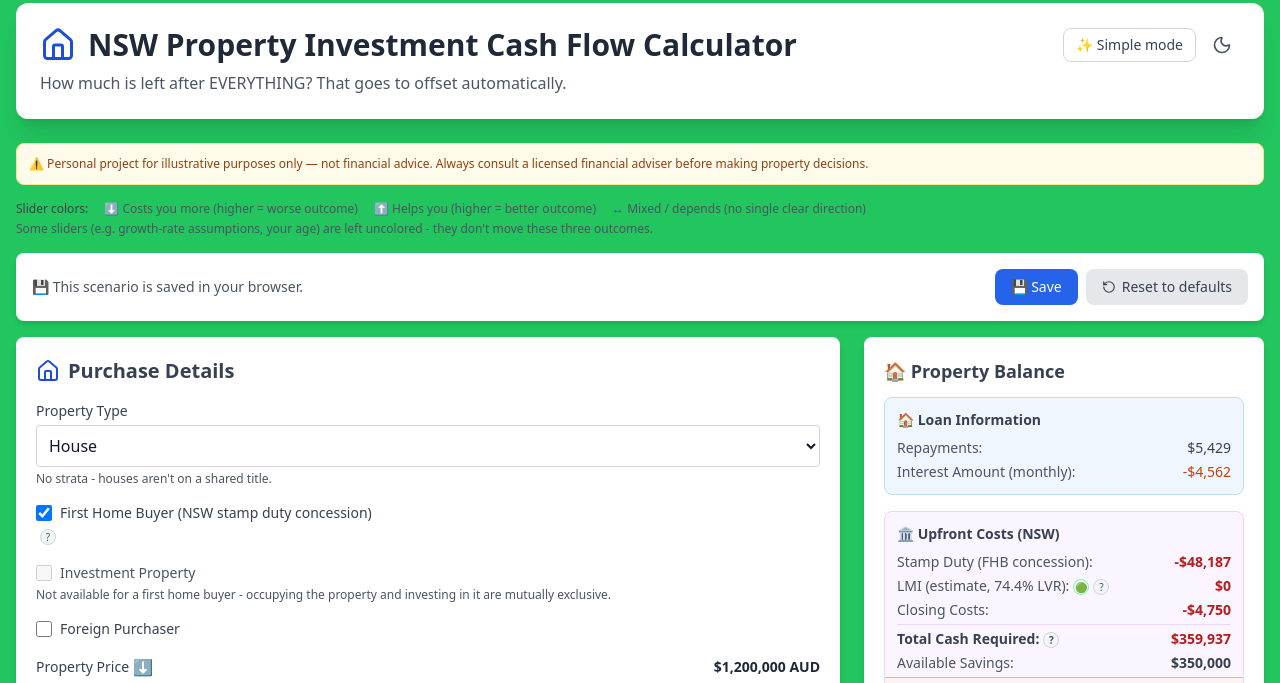
Test: Emergency/Vacancy Buffer settlement-shortfall display (TODO-149) › Simple mode shows the same "Can't cover settlement" wording for Emergency Buffer
The image size is (1280, 683).
Click the button "✨ Simple mode": [1130, 45] box [1063,28,1196,62]
(page scrolled)
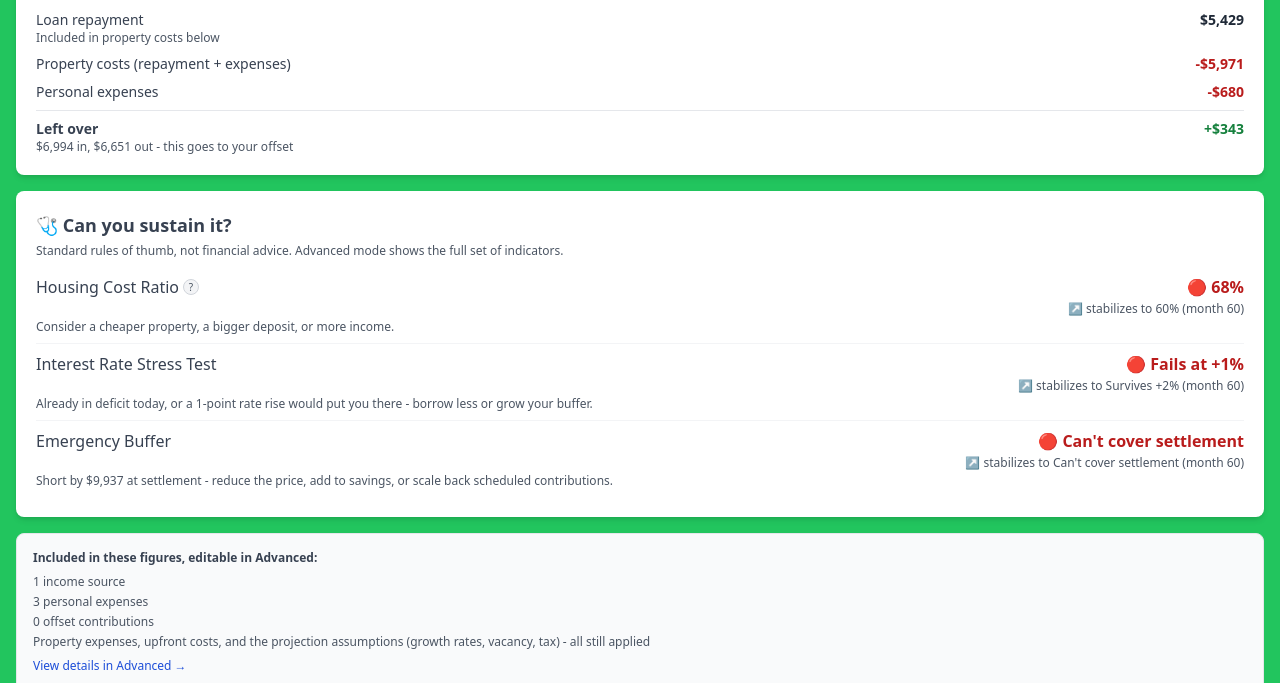
Check: the text "🔴 Can't cover settlement" is shown, box [1038,429,1244,453]
